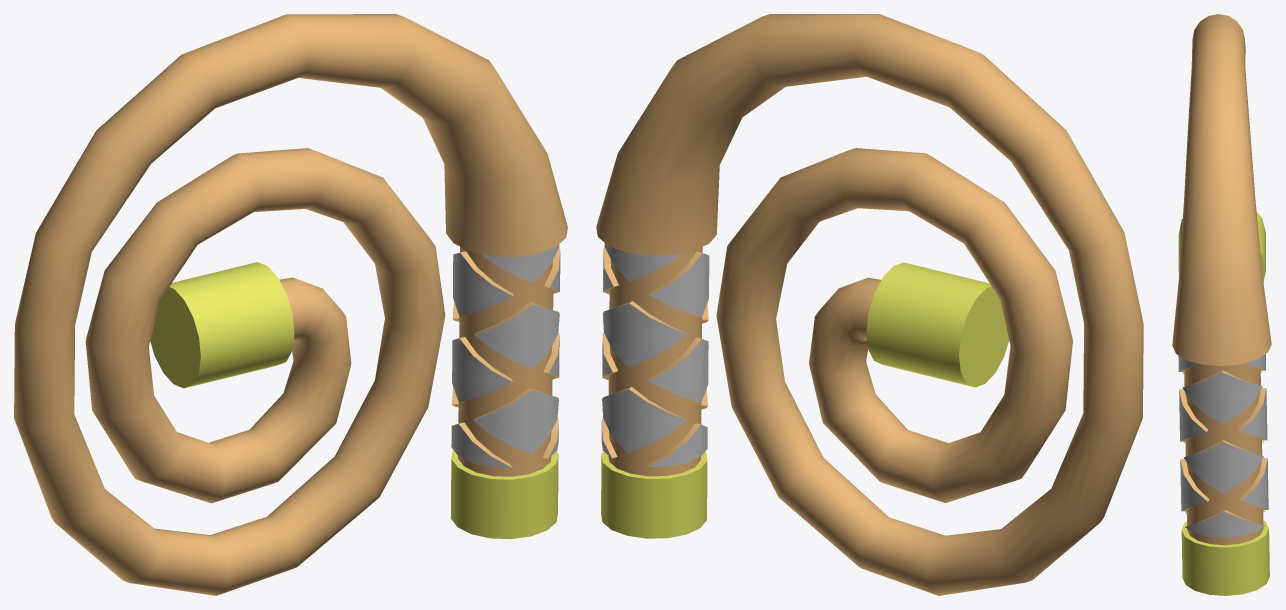
3 renders of one model, left to right at view 1: azimuth 30°, elevation 25°; view 2: azimuth 150°, elevation 25°; view 3: azimuth 270°, elevation 25°, orthographic. The views are drawn at different scales.
Parts seen in each view (by area): view 1: SOLID-WHITE_115-material.365, SOLID-WHITE_115-material.001, SOLID-WHITE_115-material.002; view 2: SOLID-WHITE_115-material.365, SOLID-WHITE_115-material.001, SOLID-WHITE_115-material.002; view 3: SOLID-WHITE_115-material.365, SOLID-WHITE_115-material.002, SOLID-WHITE_115-material.001.
Boxes of the visible parts, x1,y1,x2,y2 form: SOLID-WHITE_115-material.365: (14, 14, 567, 595); SOLID-WHITE_115-material.001: (150, 262, 558, 539); SOLID-WHITE_115-material.002: (451, 244, 560, 467); SOLID-WHITE_115-material.365: (596, 14, 1143, 595); SOLID-WHITE_115-material.001: (601, 262, 1008, 538); SOLID-WHITE_115-material.002: (601, 243, 709, 466); SOLID-WHITE_115-material.365: (1172, 14, 1271, 545); SOLID-WHITE_115-material.002: (1178, 354, 1268, 537); SOLID-WHITE_115-material.001: (1178, 211, 1269, 595).
Size of the model in its own units: 81.23 by 80.44 by 15.96.
